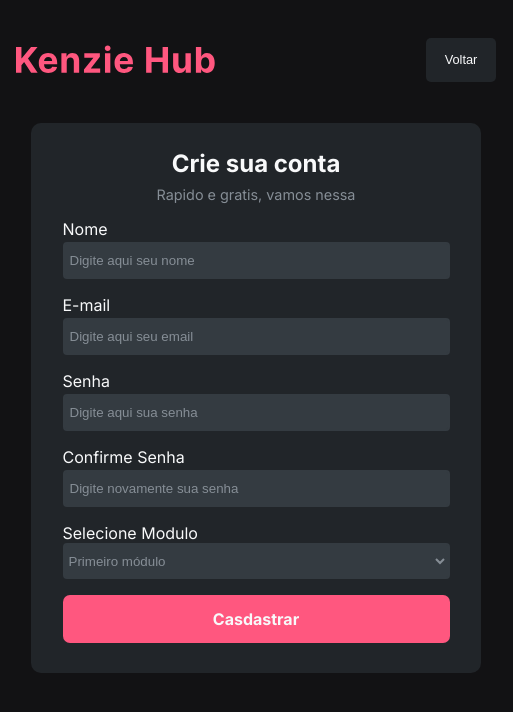
Test: Register Page › To not able to signUp, cretentials invalid
Type "johndoe" into the field with placeholder "Digite aqui seu email" at (256, 337), box [62,318,450,355]
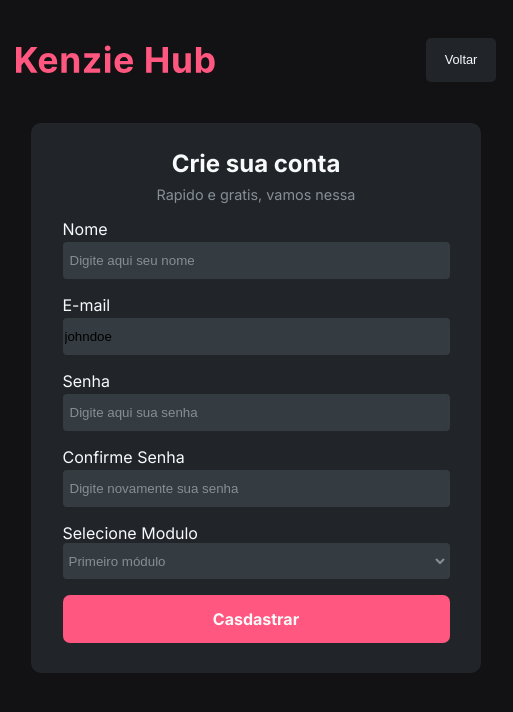
Type "123456" into the password field with placeholder "Digite aqui sua senha" at (256, 413), box [62,394,450,431]
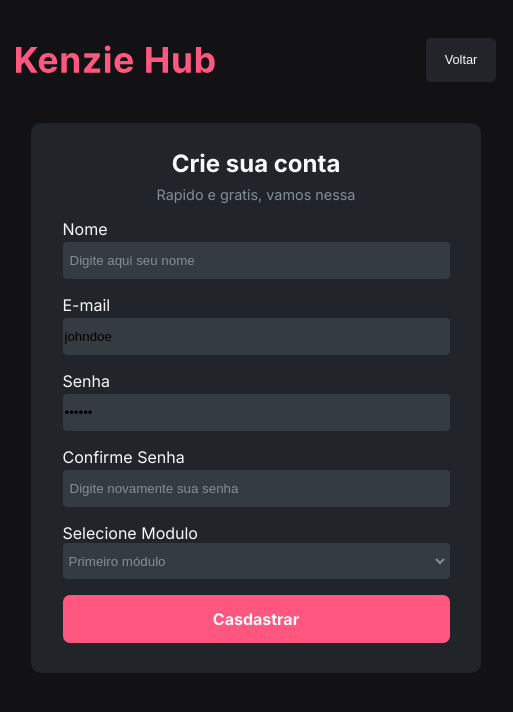
Click the button "Casdastrar" at (256, 619), box [62,595,450,643]
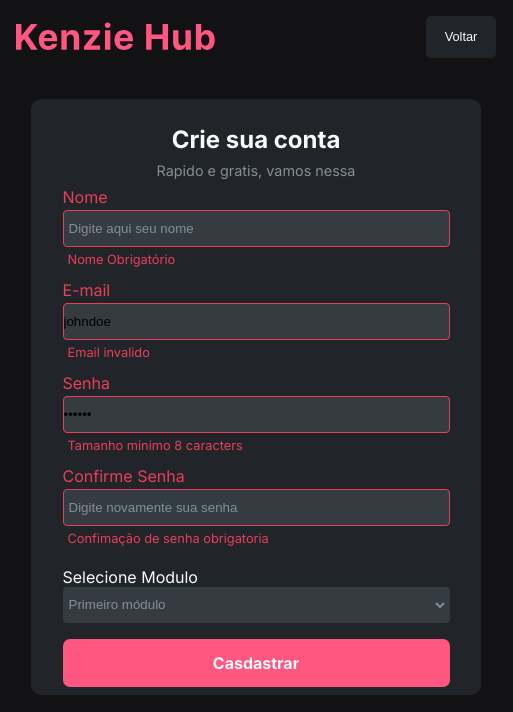
Expected: the text "Email invalido" is shown, [68,345,150,360]
Expected: the text "Tamanho minimo 8 caracters" is shown, [68,438,243,453]
Expected: the text "Confimação de senha obrigatoria" is shown, [68,531,269,546]
